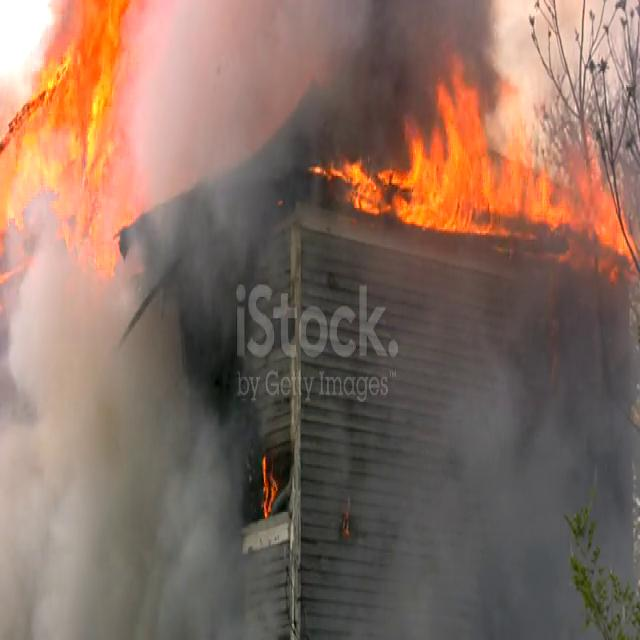fire: (352, 56, 622, 267), (0, 0, 123, 341)
smoke: (126, 0, 334, 531)
